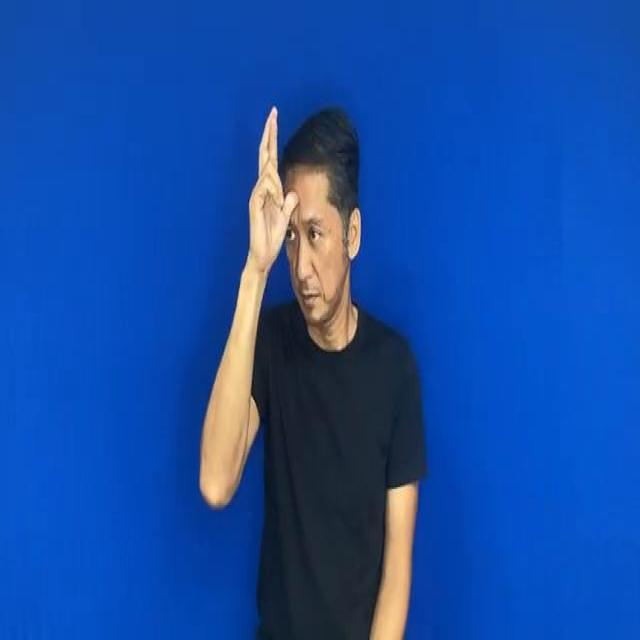chicken: (247, 89, 298, 276)
